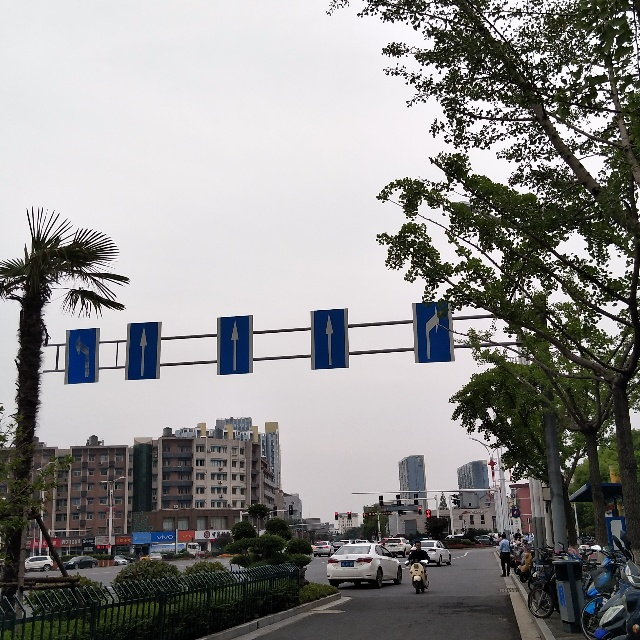right: (411, 302, 456, 364)
straight: (311, 308, 349, 370), (124, 321, 162, 382), (216, 315, 254, 375)
